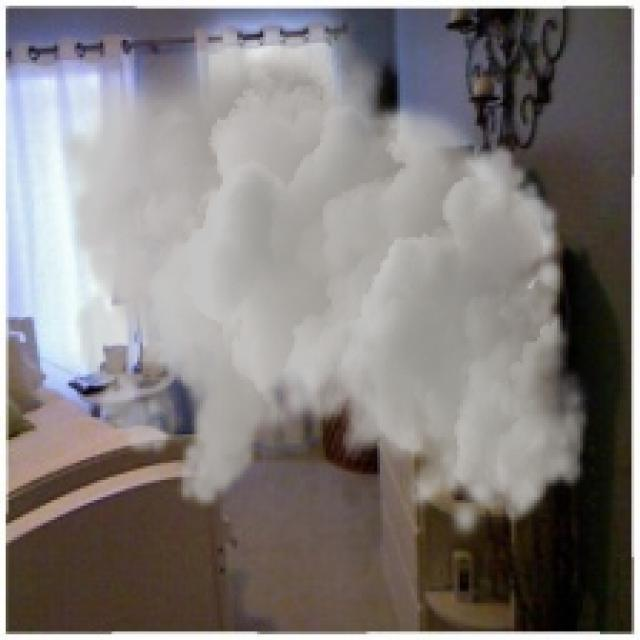Smoke: (57, 3, 592, 543)
